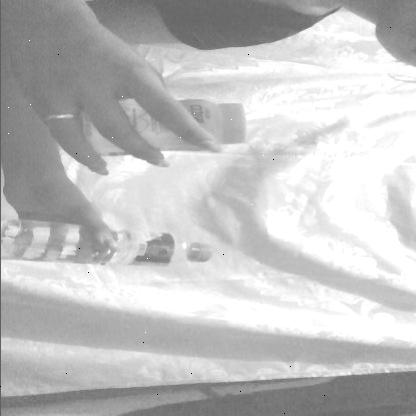Plastic Bottle: (0, 201, 271, 304)
